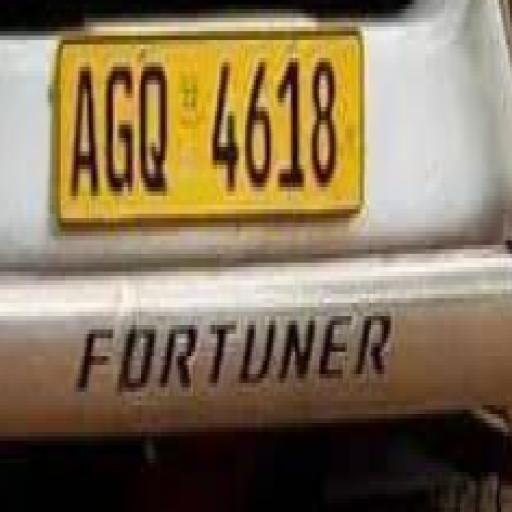number-plates: (61, 46, 344, 204)
